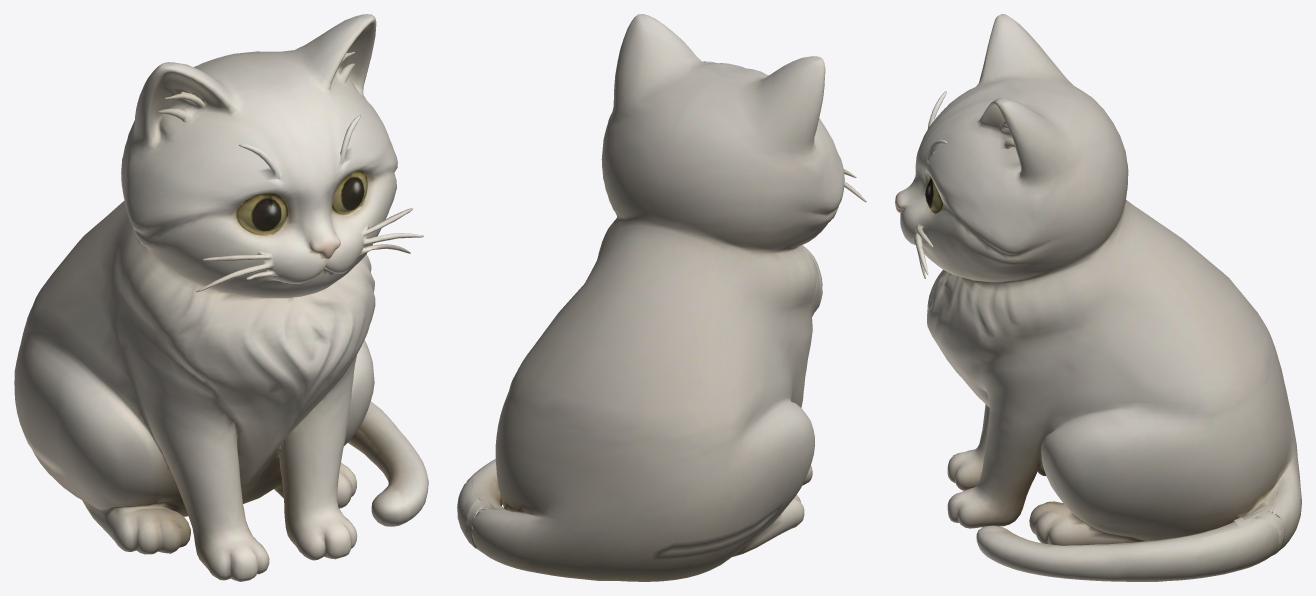
Rendered from Decorative__cute_cat_sculpture_adfc12d6_v2.cluster.glb.
3 renders of one model, left to right at view 1: azimuth 30°, elevation 25°; view 2: azimuth 150°, elevation 25°; view 3: azimuth 270°, elevation 25°, orthographic. The views are drawn at different scales.
Visible parts, largest first — view 1: texture_pbr_20250901; view 2: texture_pbr_20250901; view 3: texture_pbr_20250901.
Boxes of the visible parts, bbox=[...] form: texture_pbr_20250901: bbox=[14, 14, 428, 581]; texture_pbr_20250901: bbox=[457, 14, 866, 581]; texture_pbr_20250901: bbox=[895, 14, 1301, 581].
Size of the model in its own units: 1.34 by 1.9 by 1.57.
1 material, 1 textured.
